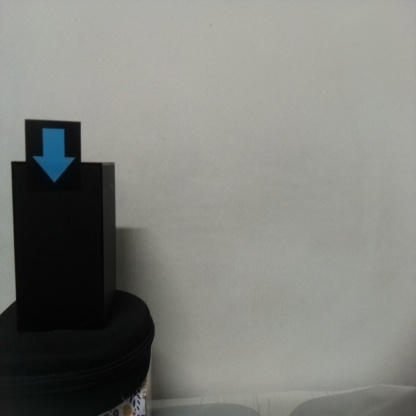id_2: (25, 120, 81, 195)
